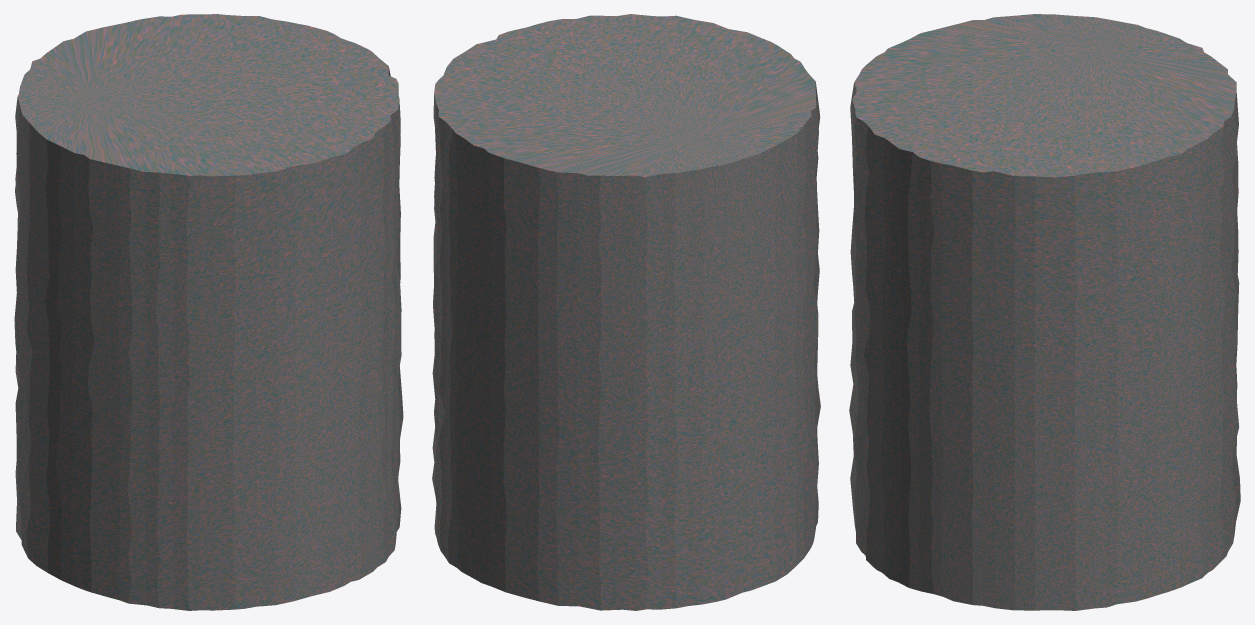
The model's file is barrel_59.dae.
The picture shows the model from 3 angles, left to right: view 1: azimuth 30°, elevation 25°; view 2: azimuth 150°, elevation 25°; view 3: azimuth 270°, elevation 25°; orthographic projection.
Visible parts, largest first — view 1: Cylinder; view 2: Cylinder; view 3: Cylinder.
Part boxes in pixels (x1=…): Cylinder: x1=14, y1=14, x2=403, y2=610; Cylinder: x1=432, y1=14, x2=820, y2=610; Cylinder: x1=849, y1=14, x2=1240, y2=610.
Bounding box in the file's own units: 0.8108 × 0.8162 × 1.
1 material, 1 textured.
